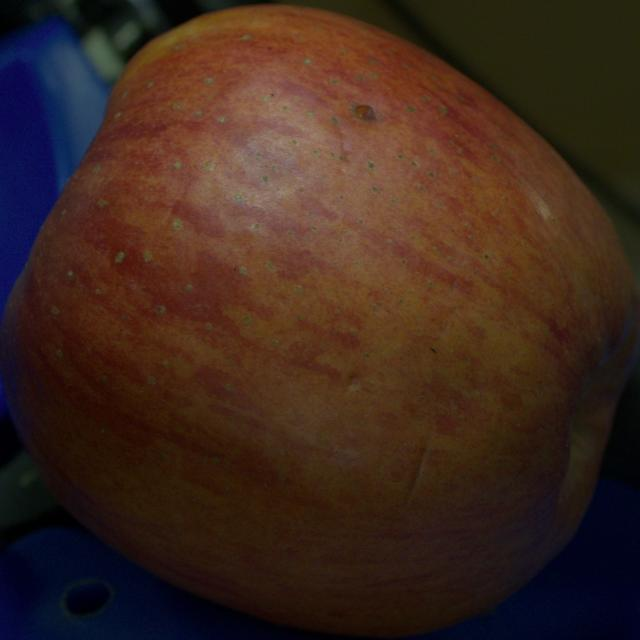apple: (0, 7, 639, 636)
bruise: (403, 419, 434, 507)
pest: (354, 105, 377, 120)
